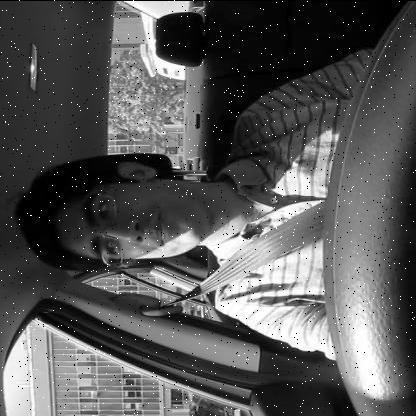seatbelt: (8, 148, 332, 319)
